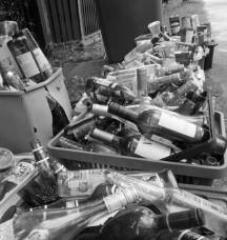glass: (66, 76, 227, 167)
